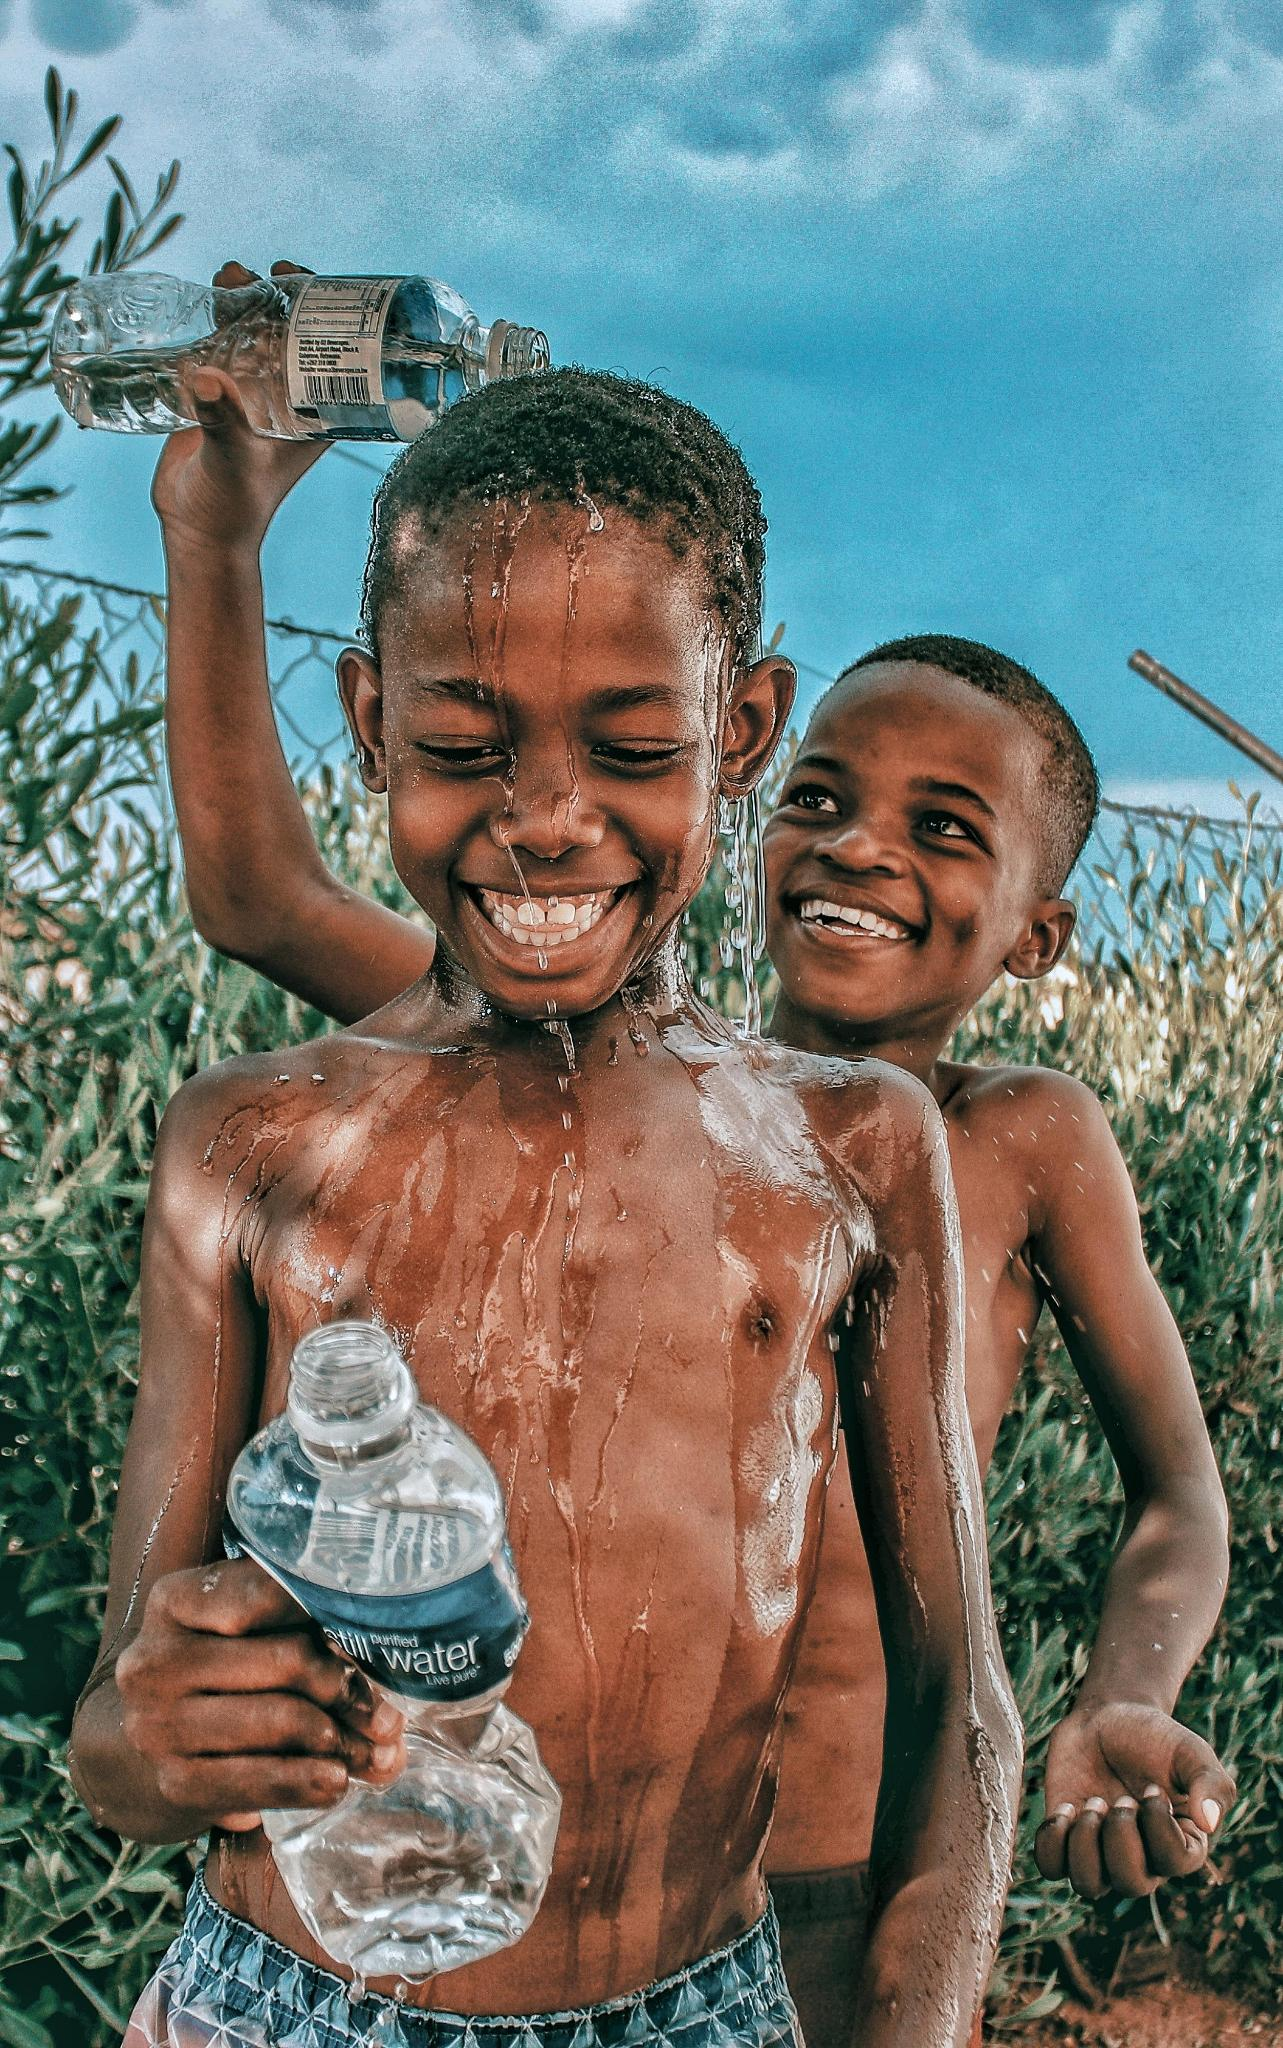bottle: (207, 1275, 600, 1990), (33, 216, 579, 486)
